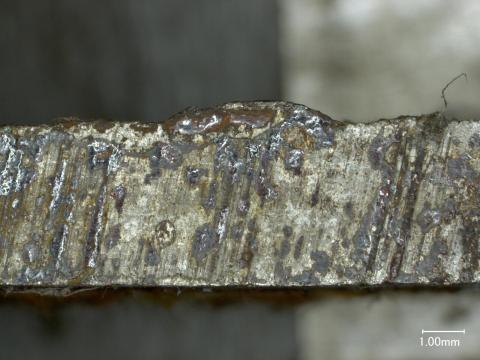test: (166, 102, 339, 122)
